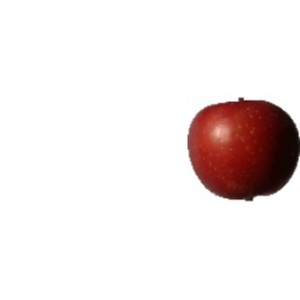maçã braeburn: (187, 98, 300, 201)
